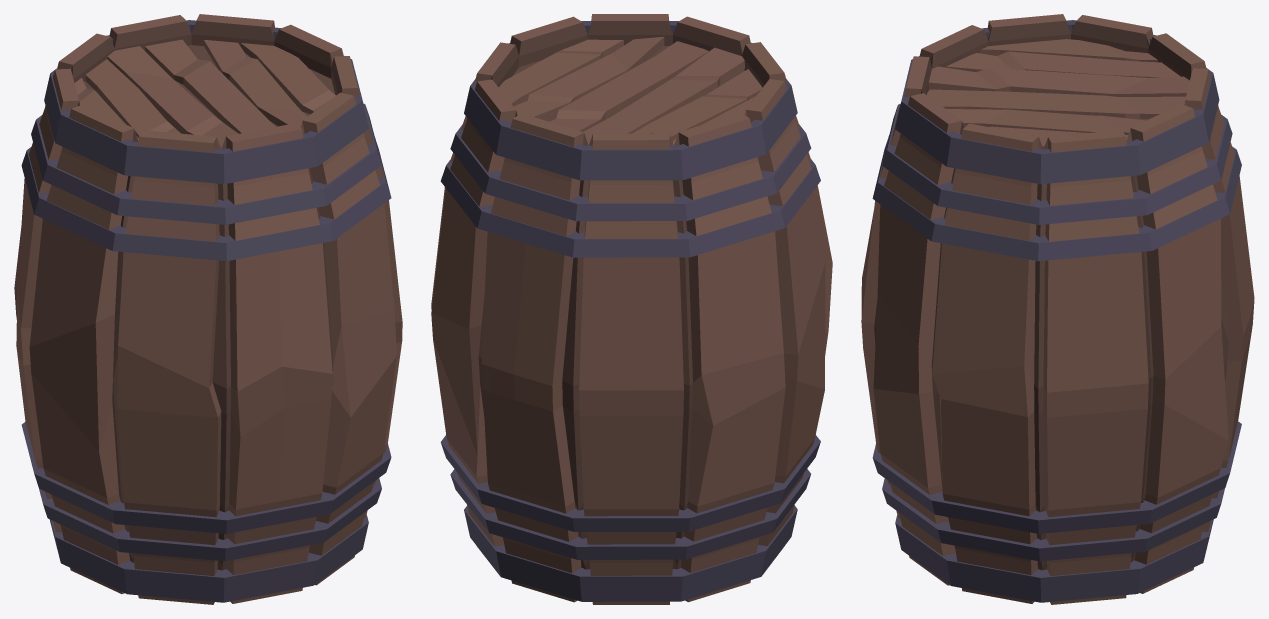
The model's file is Barrel.glb.
The picture shows the model from 3 angles, left to right: view 1: azimuth 30°, elevation 25°; view 2: azimuth 150°, elevation 25°; view 3: azimuth 270°, elevation 25°; orthographic projection.
Visible parts, largest first — view 1: Barrel; view 2: Barrel; view 3: Barrel.
Boxes of the visible parts, bbox=[...] form: Barrel: bbox=[14, 14, 402, 604]; Barrel: bbox=[431, 14, 832, 604]; Barrel: bbox=[861, 14, 1254, 604].
Size of the model in its own units: 1.04 by 1.35 by 1.03.
